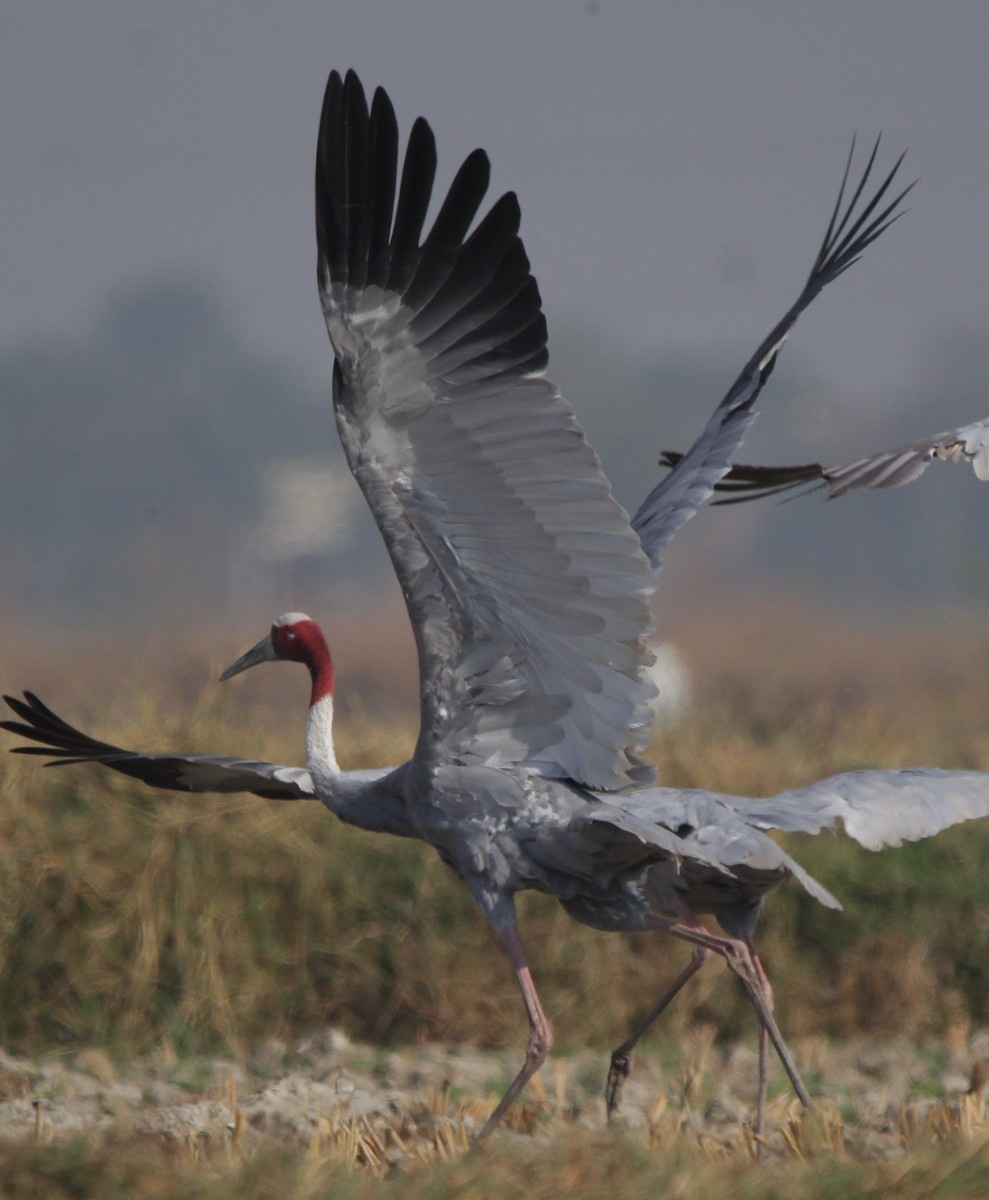crane: (210, 59, 853, 1153)
